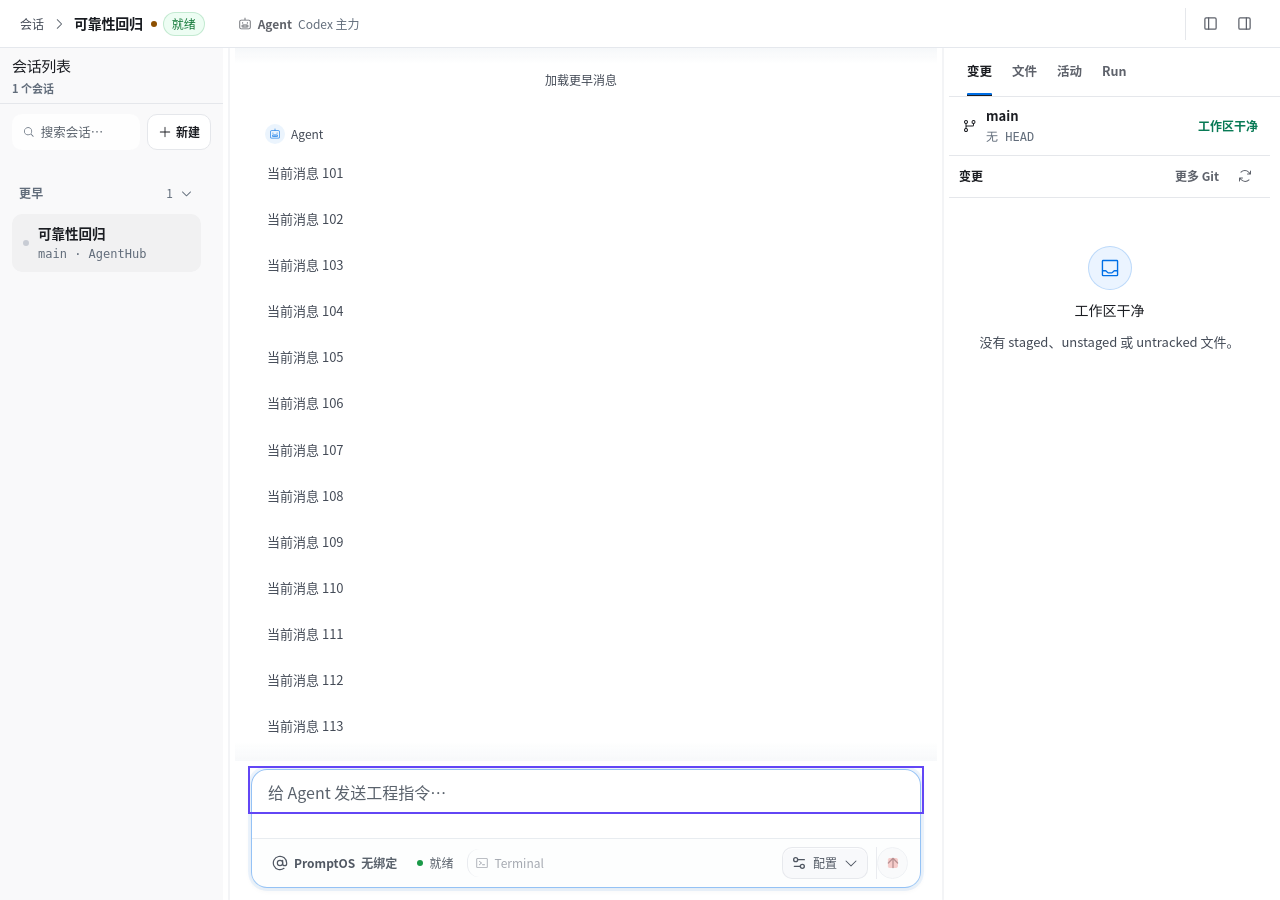
it: WorkspacePage 数据分区可靠性 › 消息窗口按 beforeSequence 加载更早历史并保持时间线顺序
Click the button "加载更早消息" at (581, 80), box 532,64 -> 630,96
(page scrolled)
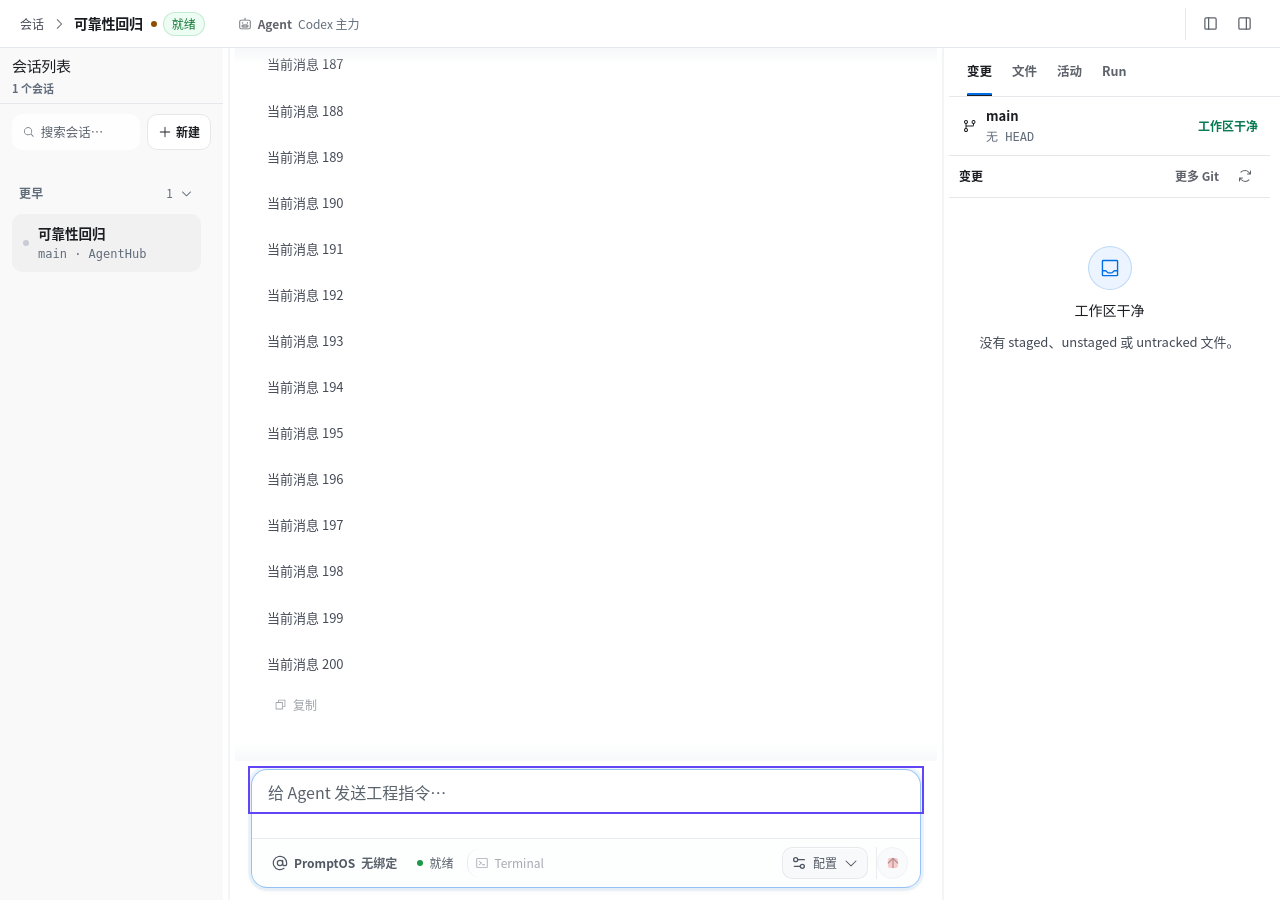
Expected: the text "当前消息 200" is shown, 267,654 -> 344,673
